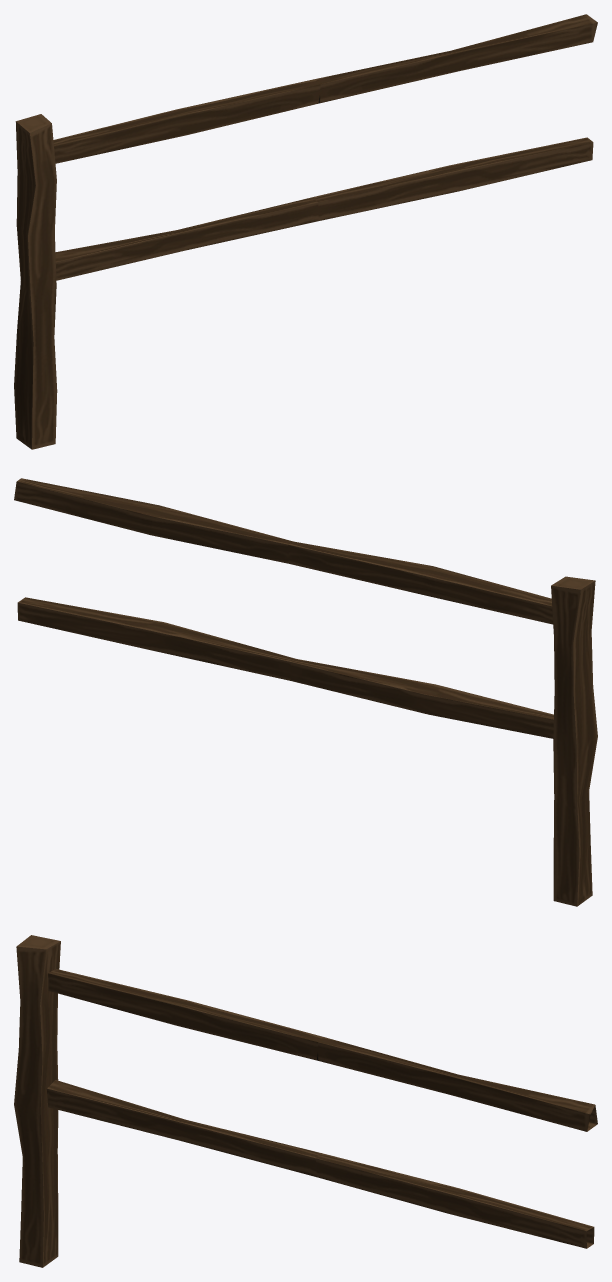
File: Fence01_Geo.fbx
3 renders of one model, top to bottom at view 1: azimuth 30°, elevation 25°; view 2: azimuth 150°, elevation 25°; view 3: azimuth 330°, elevation 25°, orthographic.
Parts seen in each view (by area): view 1: Fence012_Geo, Fence013_Geo, Fence011_Geo; view 2: Fence012_Geo, Fence013_Geo, Fence011_Geo; view 3: Fence012_Geo, Fence013_Geo, Fence011_Geo.
Boxes of the visible parts, x1,y1,x2,y2 form: Fence012_Geo: (53, 14, 597, 163); Fence013_Geo: (55, 137, 593, 280); Fence011_Geo: (14, 114, 57, 449); Fence012_Geo: (14, 478, 553, 624); Fence013_Geo: (17, 597, 553, 738); Fence011_Geo: (551, 576, 597, 906); Fence012_Geo: (48, 969, 597, 1131); Fence013_Geo: (46, 1080, 594, 1248); Fence011_Geo: (14, 935, 60, 1267).
Size of the model in its own units: 181 by 96.19 by 10.48.
